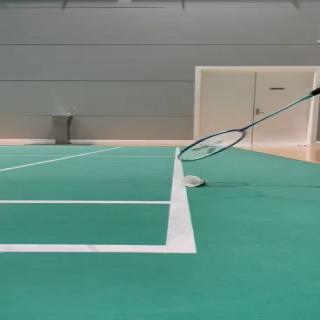Shuttle: (181, 175, 208, 188)
